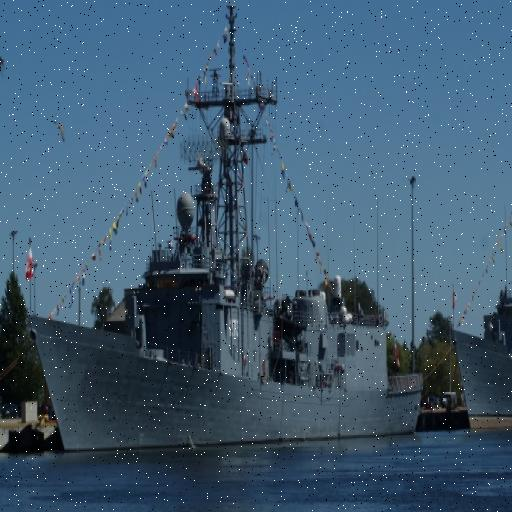Fragata: (26, 1, 426, 460), (442, 106, 512, 438)
